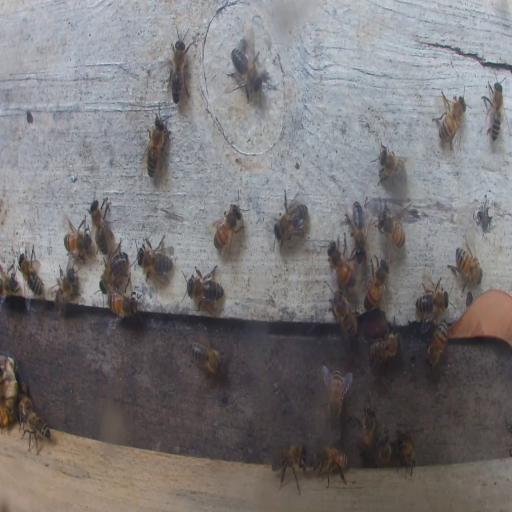bee: (432, 88, 466, 152), (230, 44, 264, 104), (269, 443, 307, 495), (182, 265, 225, 310), (274, 193, 308, 248), (322, 365, 350, 429), (167, 32, 191, 105), (144, 109, 168, 180), (136, 234, 173, 280), (212, 203, 242, 257), (312, 444, 348, 488), (20, 407, 52, 454), (452, 239, 482, 289), (189, 336, 225, 377), (483, 77, 505, 143), (88, 198, 113, 256), (330, 290, 358, 340), (376, 205, 408, 248), (18, 247, 44, 299), (329, 240, 356, 290), (99, 246, 129, 291), (377, 142, 408, 185), (54, 262, 80, 312), (416, 279, 448, 319), (63, 215, 91, 260), (364, 259, 388, 310), (368, 331, 401, 366), (356, 403, 376, 457), (426, 322, 448, 368), (350, 202, 368, 256), (396, 430, 416, 477), (108, 290, 140, 318), (0, 268, 20, 300), (376, 432, 393, 467), (18, 396, 32, 423), (1, 402, 11, 428)
